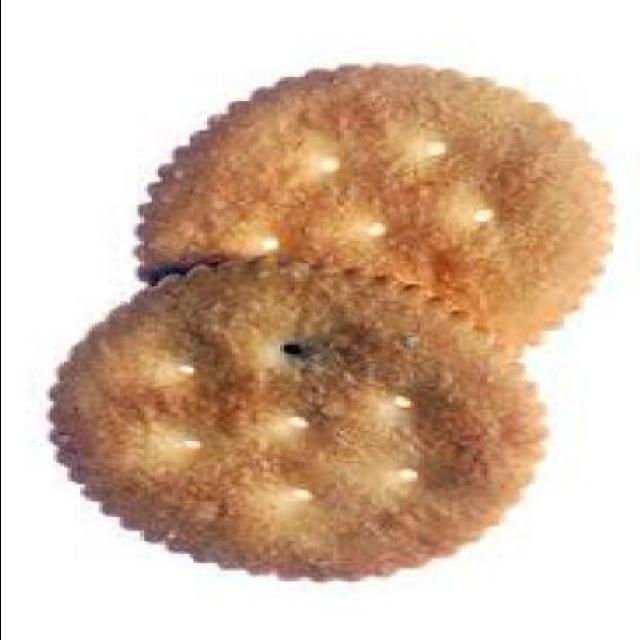Ritz cracker packaged: (46, 67, 616, 582)
